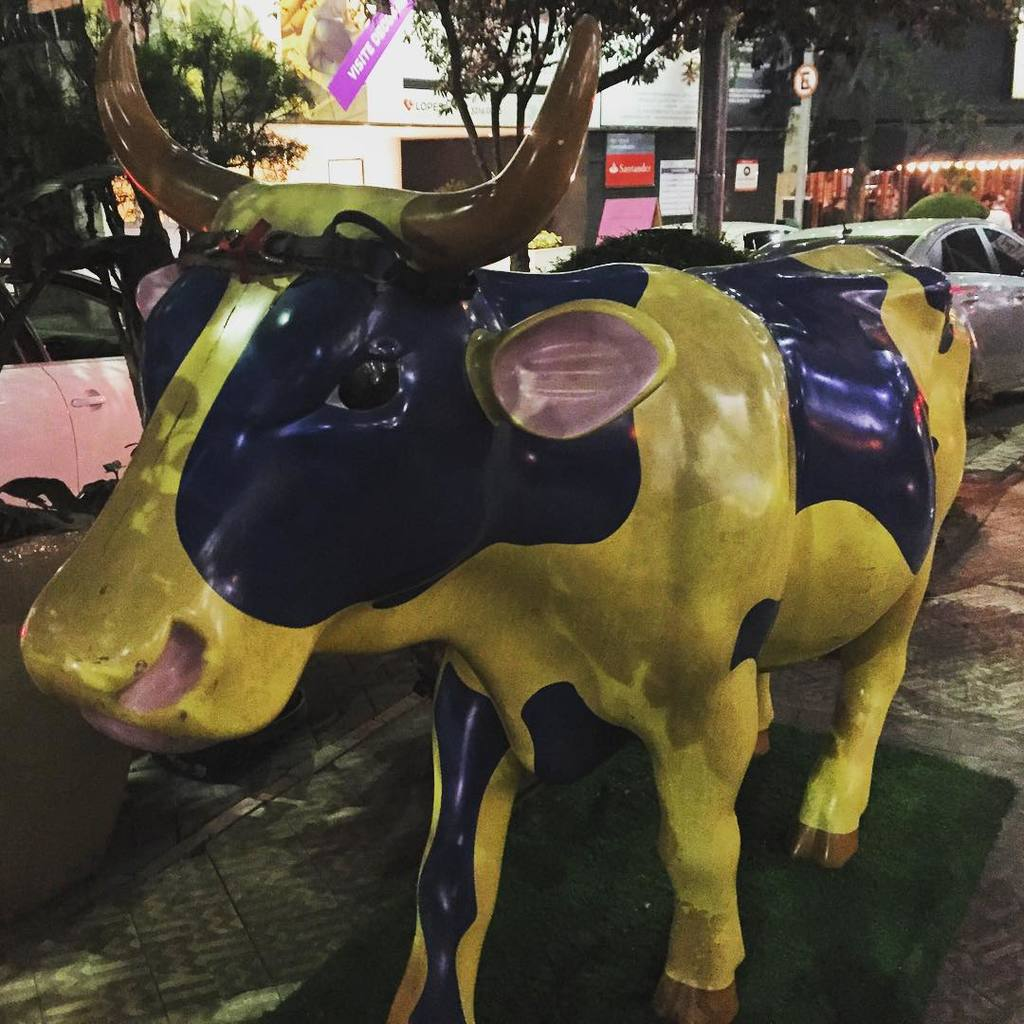Car: (727, 211, 1023, 397), (0, 246, 165, 528)
